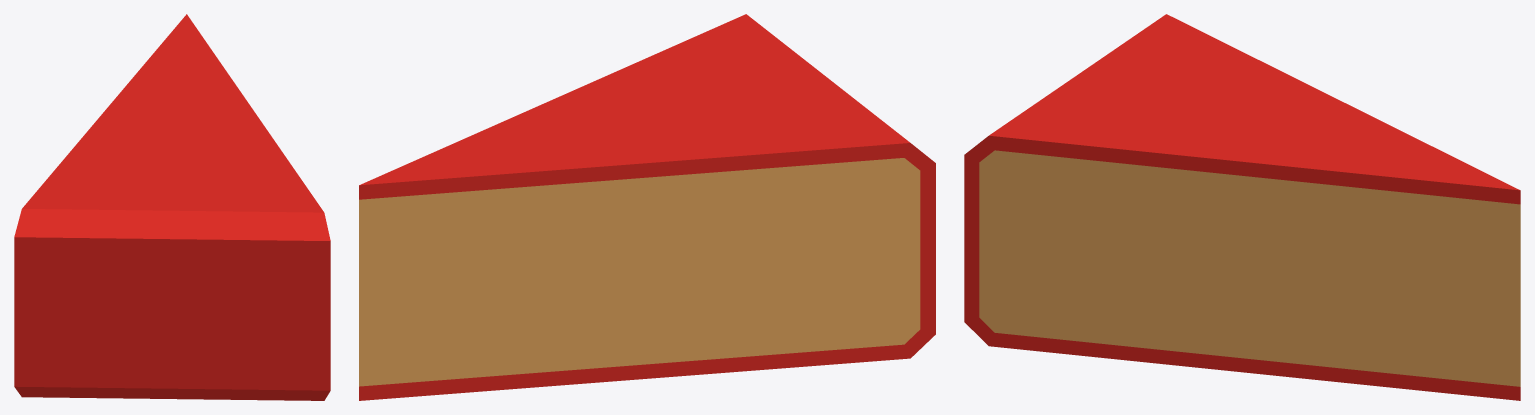
The model's file is CheeseSlice.fbx.
3 views of the same model, side by side, from view 1: azimuth 30°, elevation 25°; view 2: azimuth 150°, elevation 25°; view 3: azimuth 270°, elevation 25° (orthographic). The views are drawn at different scales.
Parts seen in each view (by area): view 1: Cylinder.004; view 2: Cylinder.006, Cylinder.004; view 3: Cylinder.006, Cylinder.004.
Boxes of the visible parts, x1,y1,x2,y2 form: Cylinder.004: (14,14,330,400); Cylinder.006: (359,158,920,386); Cylinder.004: (359,14,935,400); Cylinder.006: (979,150,1520,386); Cylinder.004: (964,14,1520,400).
Size of the model in its own units: 33.99 by 18.08 by 43.31.
